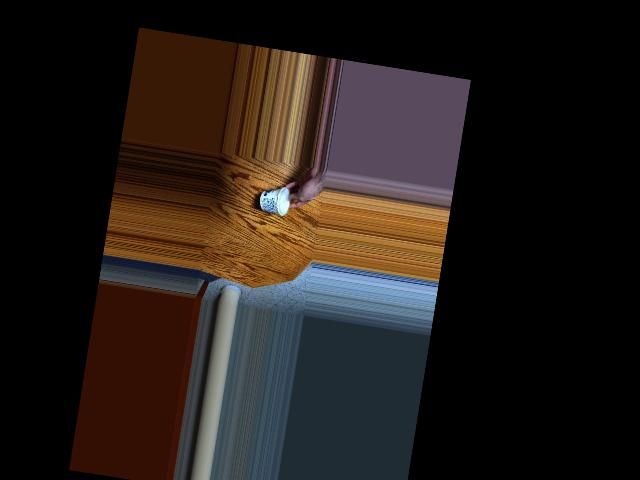cotage: (261, 183, 297, 220)
